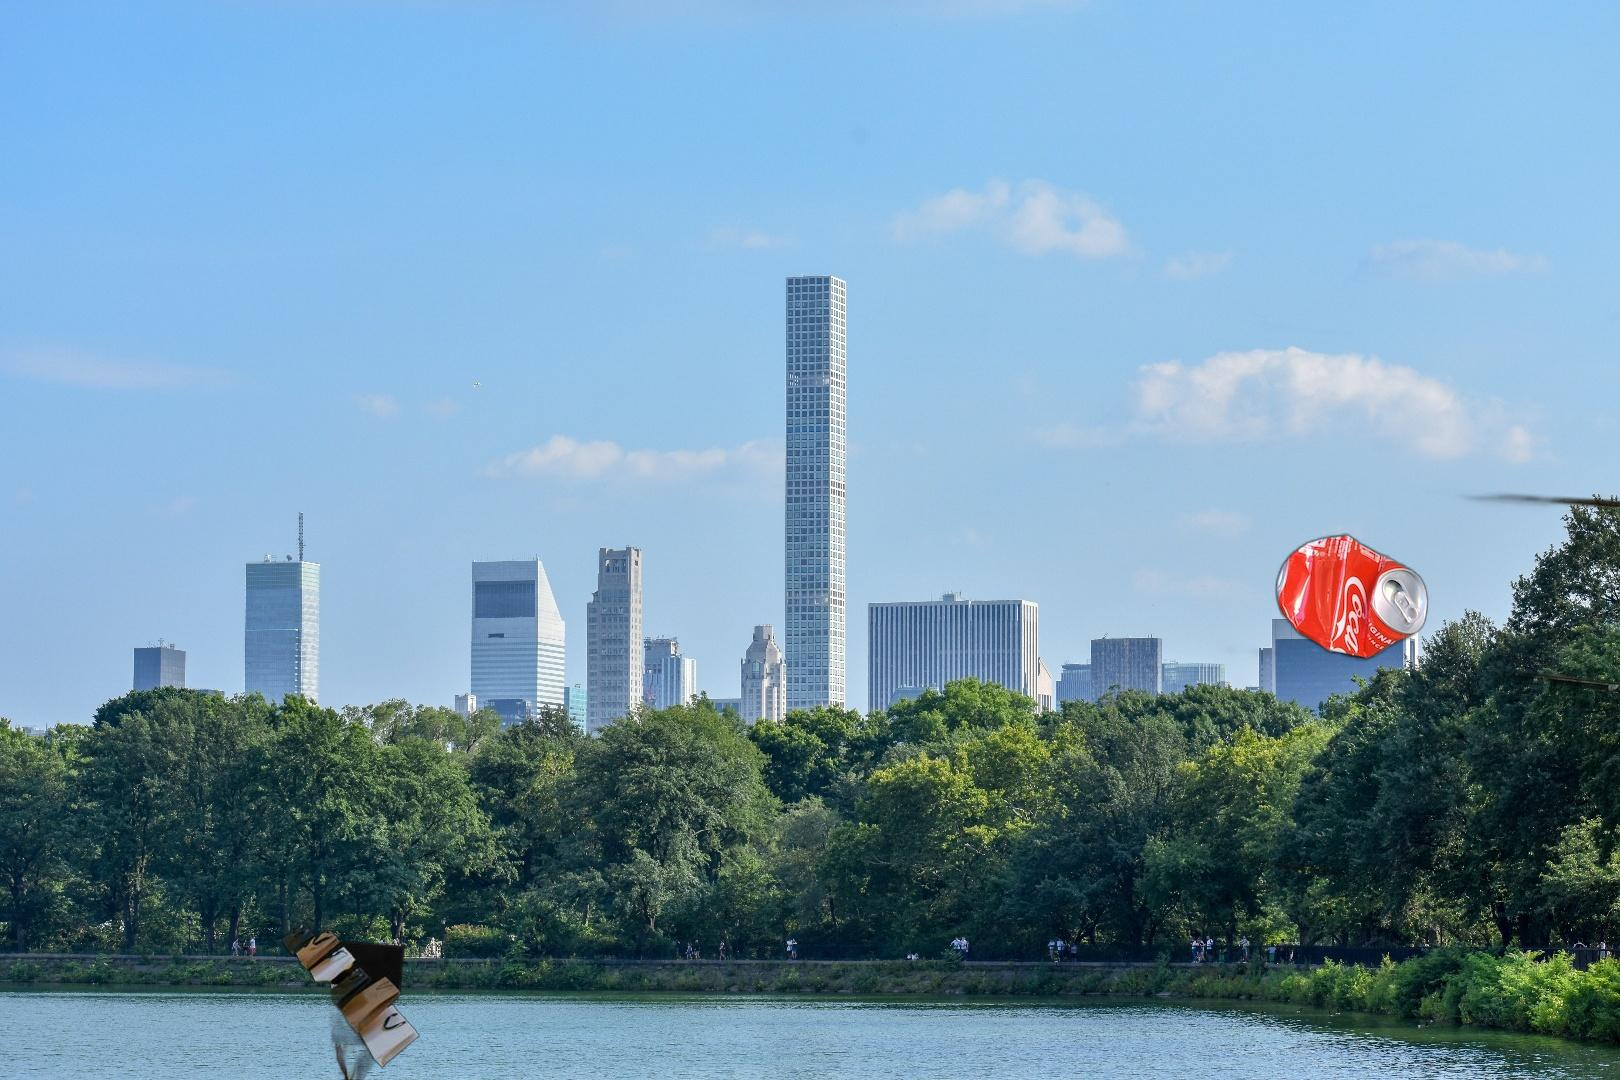metal-cans: (1199, 297, 1620, 897)
paper-bag: (182, 921, 443, 1080)
